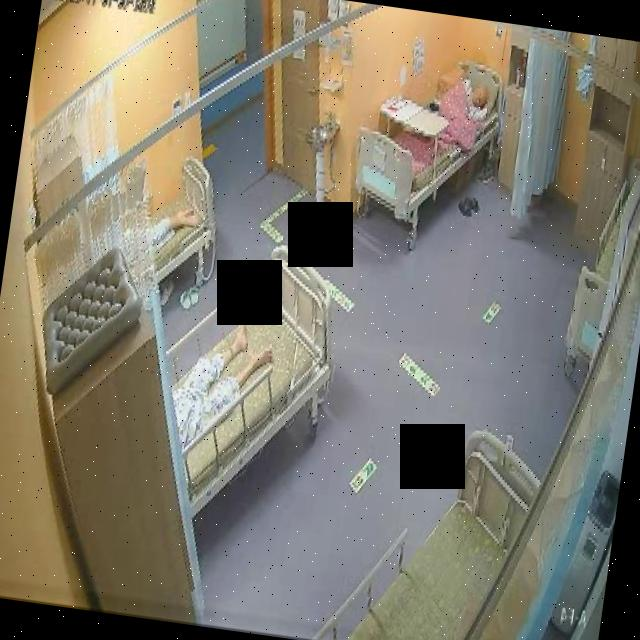bed: (154, 234, 348, 528), (312, 413, 547, 640), (346, 46, 513, 234), (142, 152, 223, 290)
lie: (164, 302, 278, 456)
patient: (164, 300, 278, 454), (453, 76, 493, 122)
